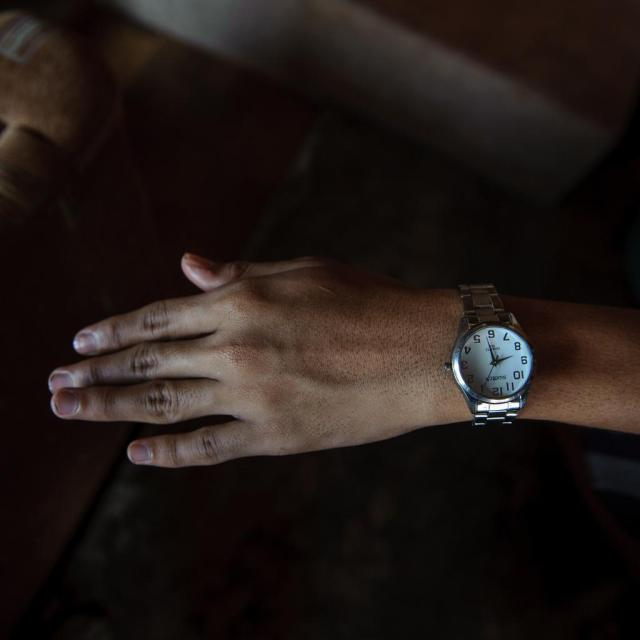Wrist watch: (446, 282, 536, 426)
